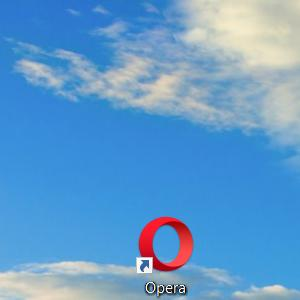opera: (136, 216, 194, 274)
